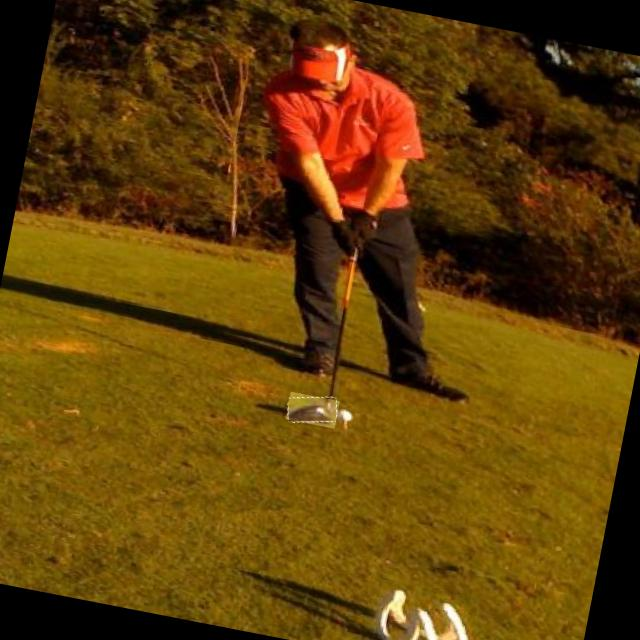club head: (286, 392, 340, 429)
